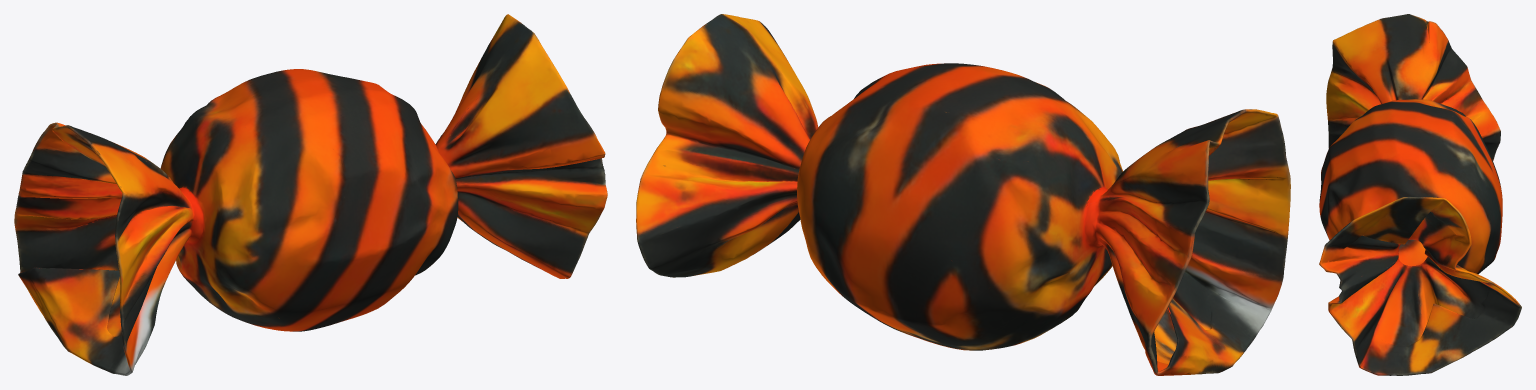
Rendered from porch-candy.glb.
3 views of the same model, side by side, from view 1: azimuth 30°, elevation 25°; view 2: azimuth 150°, elevation 25°; view 3: azimuth 270°, elevation 25° (orthographic). The views are drawn at different scales.
Size of the model in its own units: 0.8503 by 0.4083 by 0.3963.
1 material, 1 textured.
